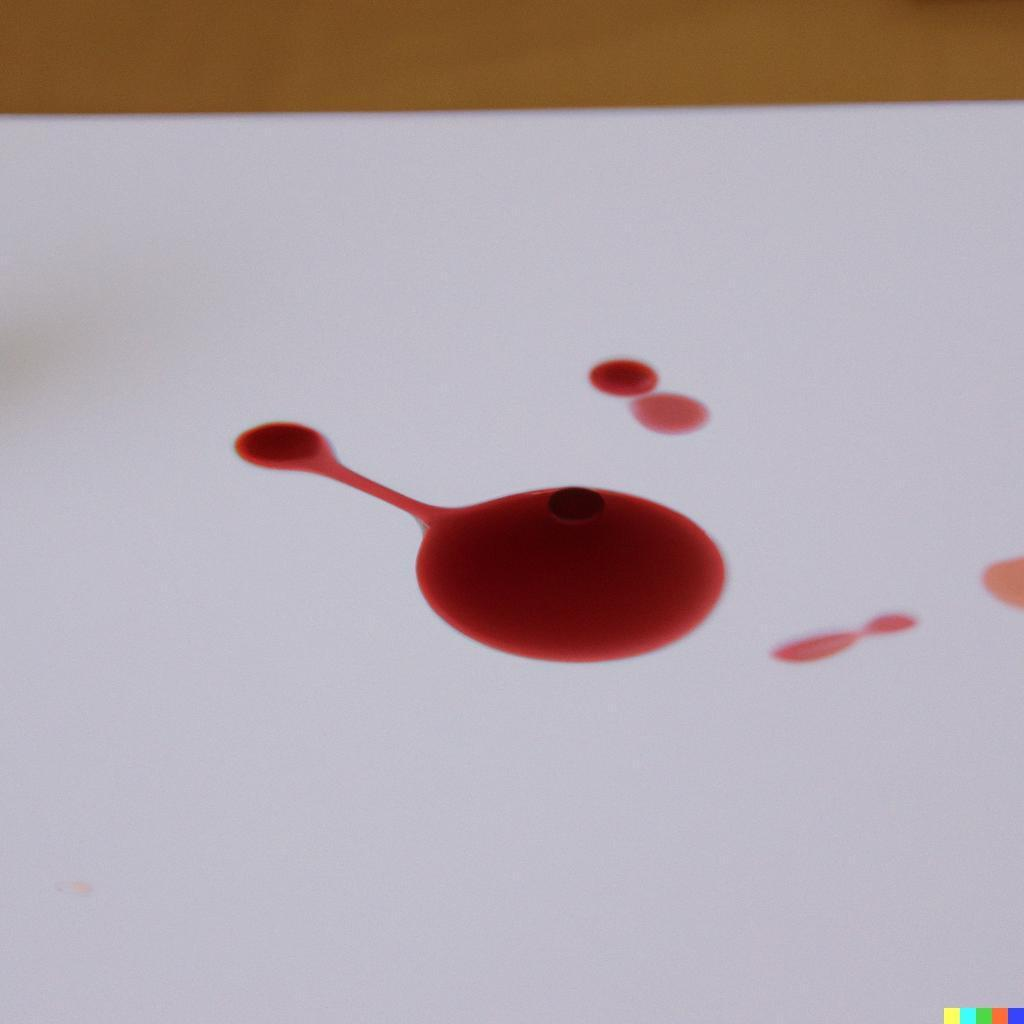Bloodstain-Detection: (430, 504, 709, 640), (236, 436, 333, 475)
